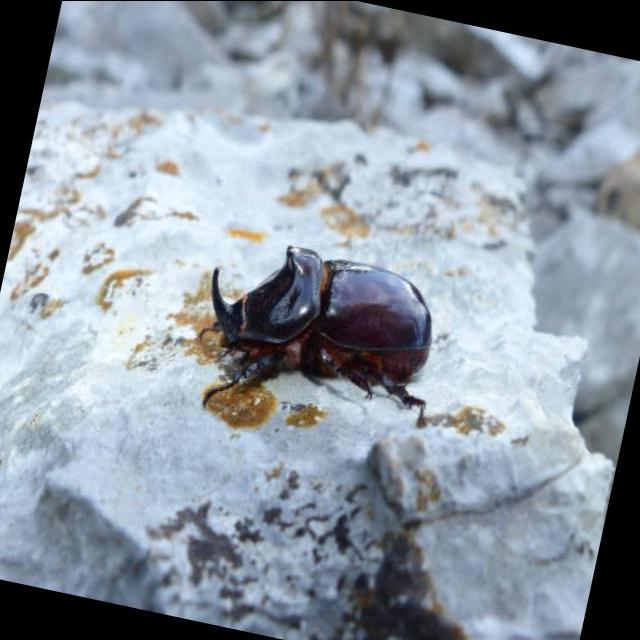Rhino-beetle: (209, 244, 459, 412)
